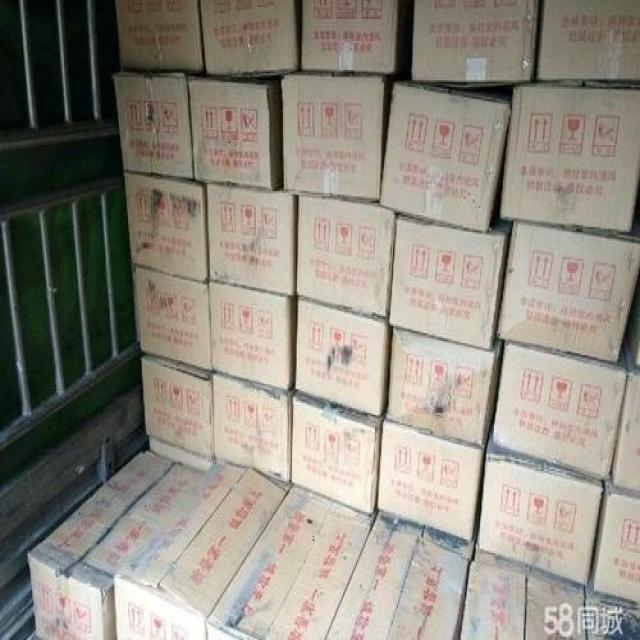box: (27, 451, 209, 640), (113, 466, 288, 640), (205, 493, 371, 640), (500, 82, 640, 232), (497, 220, 640, 362), (379, 82, 509, 232), (490, 340, 627, 480), (477, 445, 604, 587), (389, 212, 512, 352), (326, 526, 470, 640), (387, 326, 503, 447), (282, 73, 384, 201), (378, 420, 484, 543), (296, 195, 396, 319), (294, 299, 392, 416), (412, 0, 539, 89), (187, 75, 283, 189), (292, 393, 380, 515), (458, 561, 586, 640), (207, 183, 296, 295), (211, 370, 292, 485), (209, 280, 294, 389), (124, 172, 207, 282), (114, 73, 193, 181), (131, 266, 210, 370), (538, 0, 640, 80), (140, 353, 211, 461), (198, 0, 300, 75), (302, 0, 399, 75), (115, 0, 204, 73), (590, 481, 640, 608), (611, 340, 640, 492)
